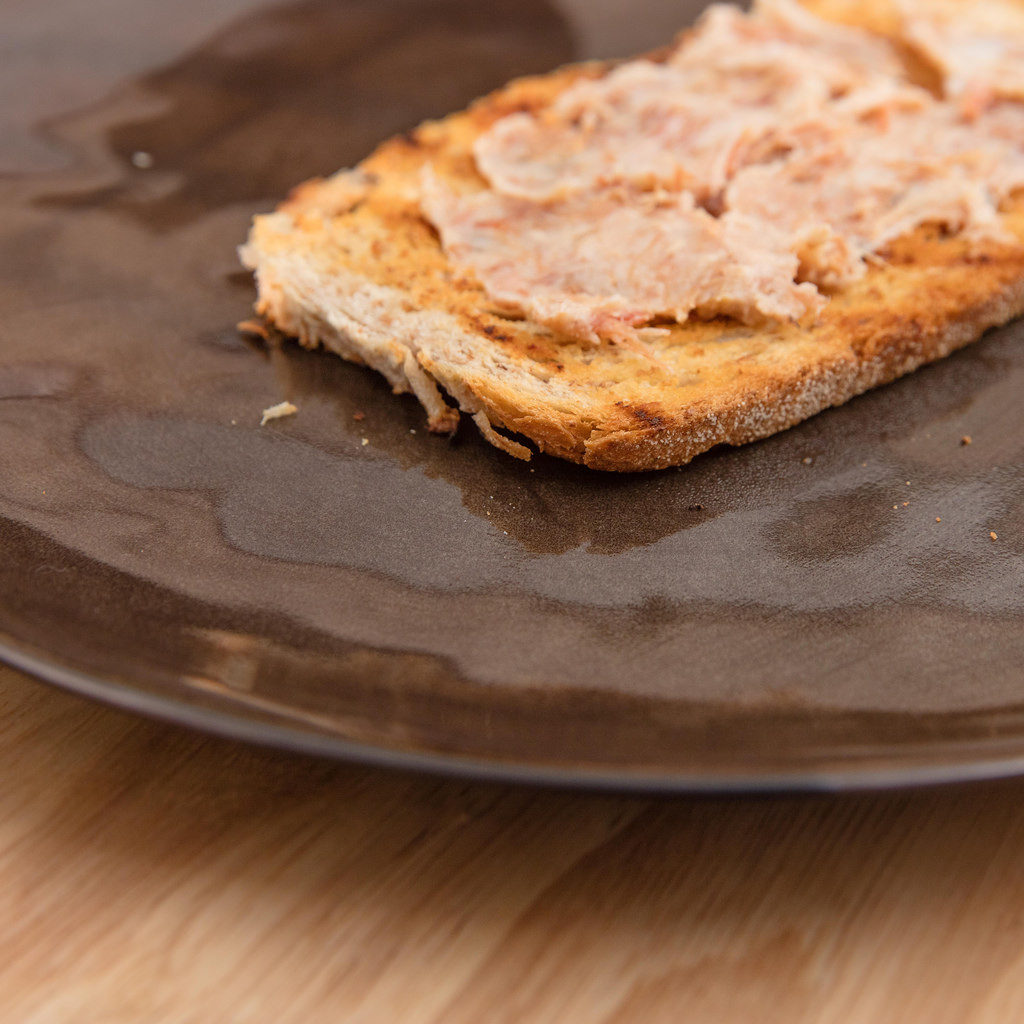slice of bread: (319, 178, 750, 401)
